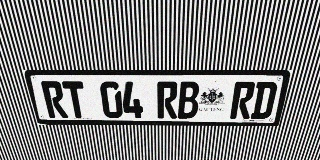0: (99, 81, 123, 118)
4: (121, 81, 143, 118)
B: (178, 81, 200, 119)
D: (250, 82, 279, 119)
R: (40, 81, 68, 118), (230, 82, 256, 119), (157, 81, 178, 118)
T: (62, 81, 88, 118)
